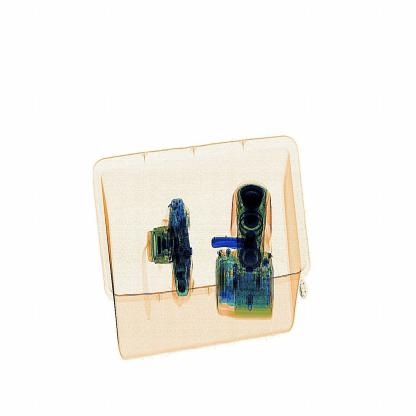knife: (208, 228, 258, 258)
